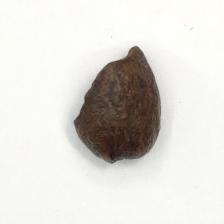NG: (70, 44, 146, 126)
